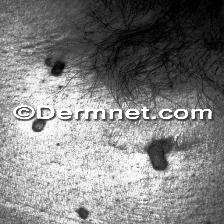Benign Marking or Mole: (144, 138, 180, 170), (44, 55, 70, 78), (31, 119, 46, 132), (78, 207, 88, 222)
